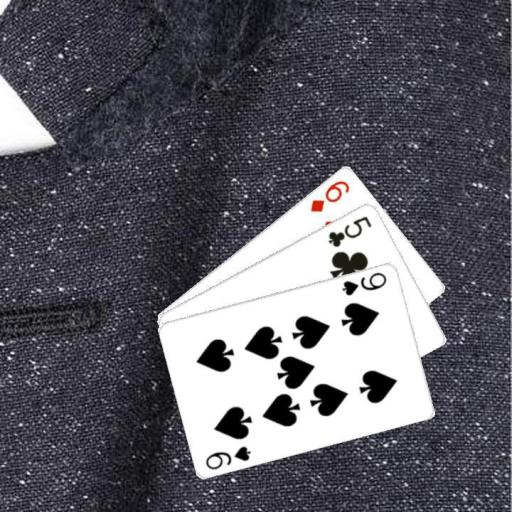5C: (325, 212, 373, 248)
6D: (307, 177, 351, 214)
9S: (203, 442, 253, 471), (339, 269, 389, 296)
